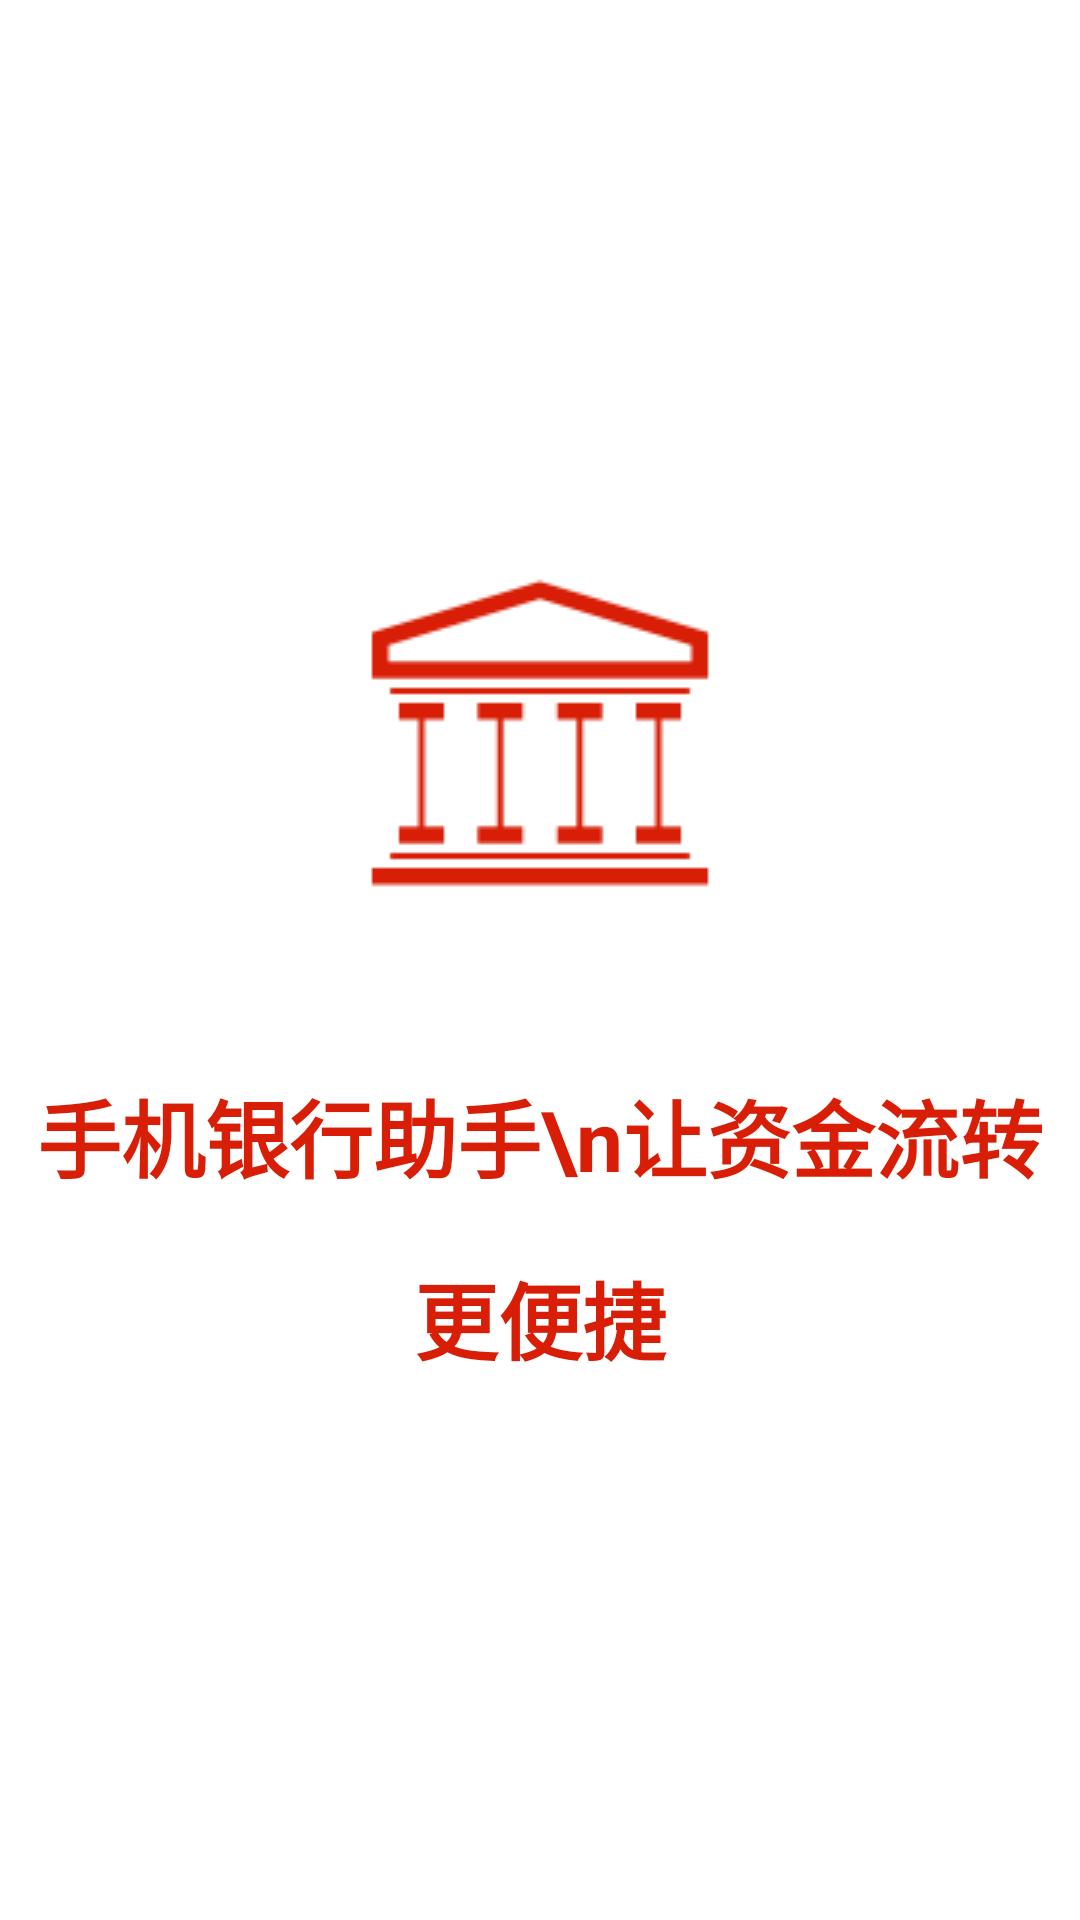

Icons on this 1080w x 1920h Android screen, each with its box as (x1, y1, x2, y2):
bank: (371, 579, 709, 887)
